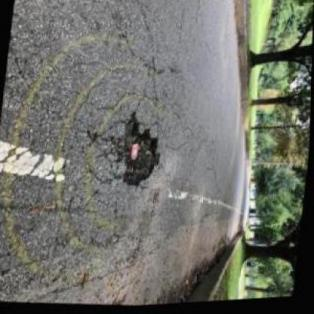Hueco: (113, 110, 166, 195)
